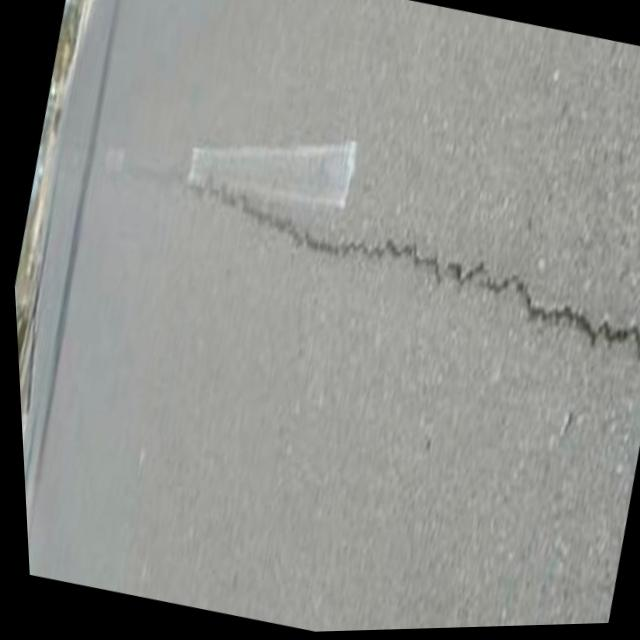Crack: (151, 157, 640, 404)
